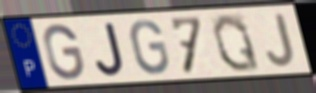7: (169, 14, 204, 75)
G: (42, 22, 86, 82), (128, 18, 172, 77)
J: (93, 20, 127, 78), (264, 11, 297, 69)
Q: (210, 12, 263, 74)
